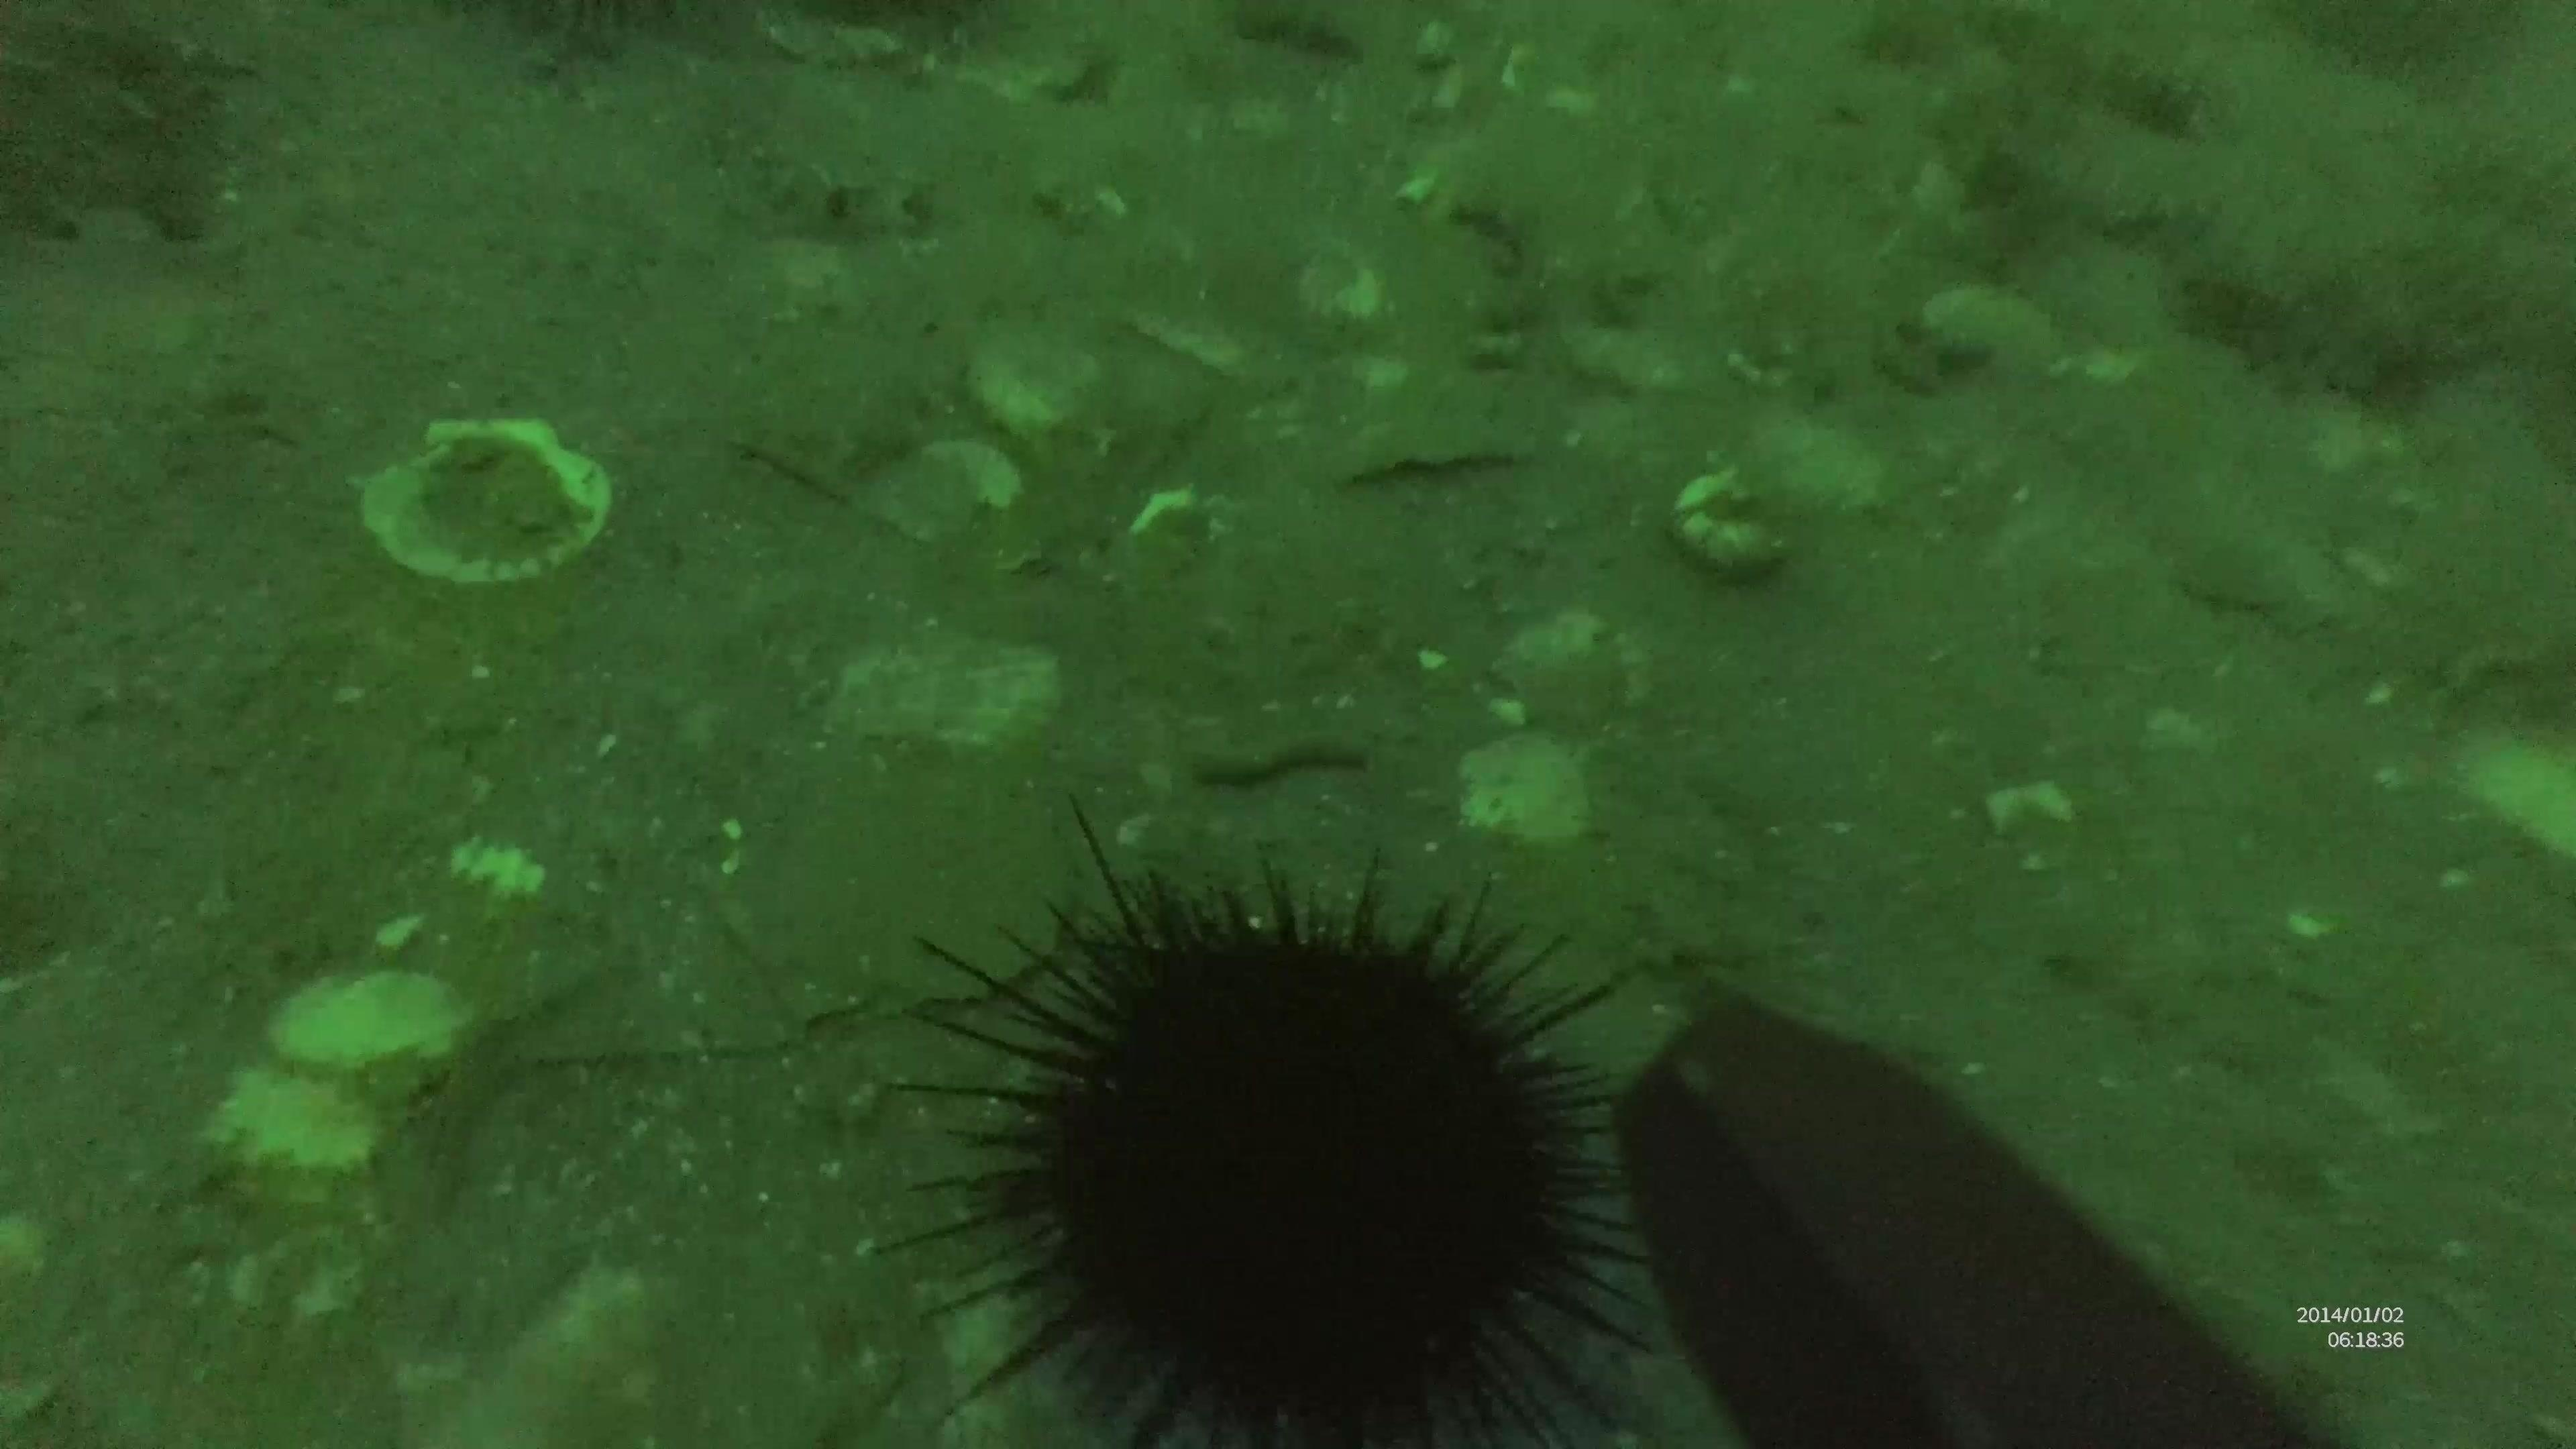echinus: (879, 824, 1668, 1444)
